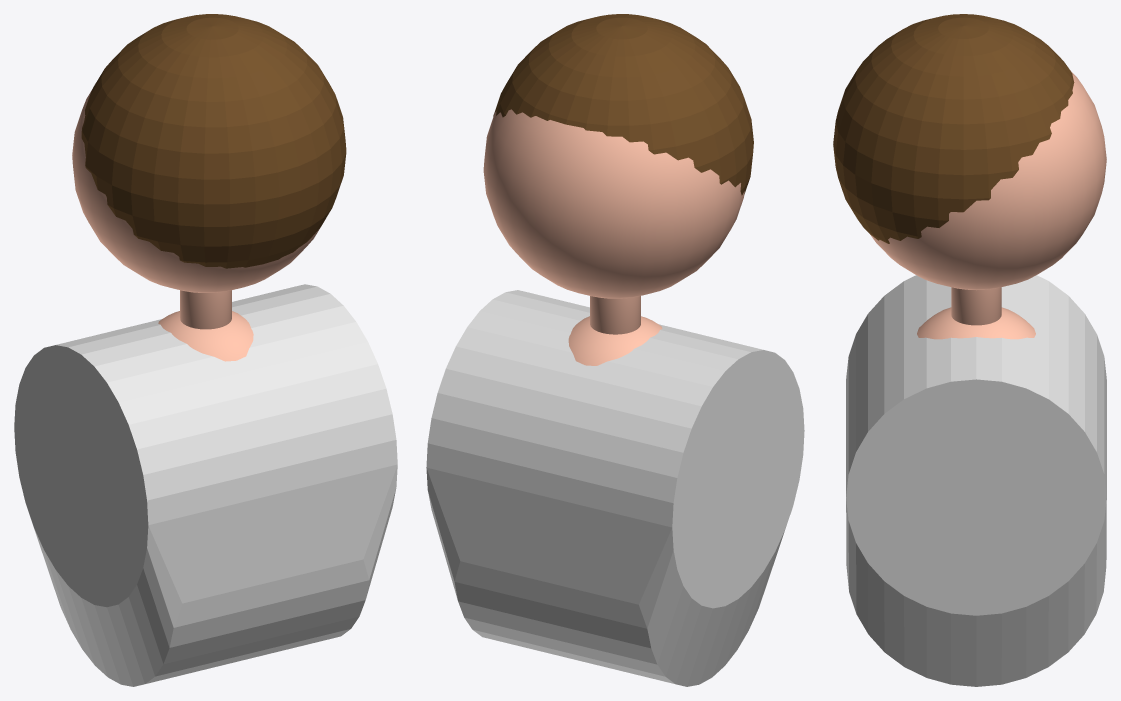
The picture shows the model from 3 angles, left to right: view 1: azimuth 30°, elevation 25°; view 2: azimuth 150°, elevation 25°; view 3: azimuth 270°, elevation 25°; orthographic projection. The views are drawn at different scales.
Visible parts, largest first — view 1: Chest, Hair, Head, Neck2, Neck; view 2: Chest, Head, Hair, Neck2, Neck; view 3: Chest, Hair, Head, Neck2, Neck.
Boxes of the visible parts, x1,y1,x2,y2 form: Chest: [14, 284, 397, 686]; Hair: [81, 14, 346, 268]; Head: [72, 89, 325, 292]; Neck2: [158, 311, 253, 361]; Neck: [180, 290, 231, 329]; Chest: [426, 290, 804, 686]; Head: [483, 109, 744, 298]; Hair: [493, 14, 753, 195]; Neck2: [568, 316, 662, 365]; Neck: [590, 296, 640, 334]; Chest: [846, 275, 1106, 686]; Hair: [833, 14, 1074, 243]; Head: [870, 70, 1106, 290]; Neck2: [917, 307, 1035, 339]; Neck: [951, 287, 1001, 325].
Bounding box in the file's own units: 215 × 520 × 210.
